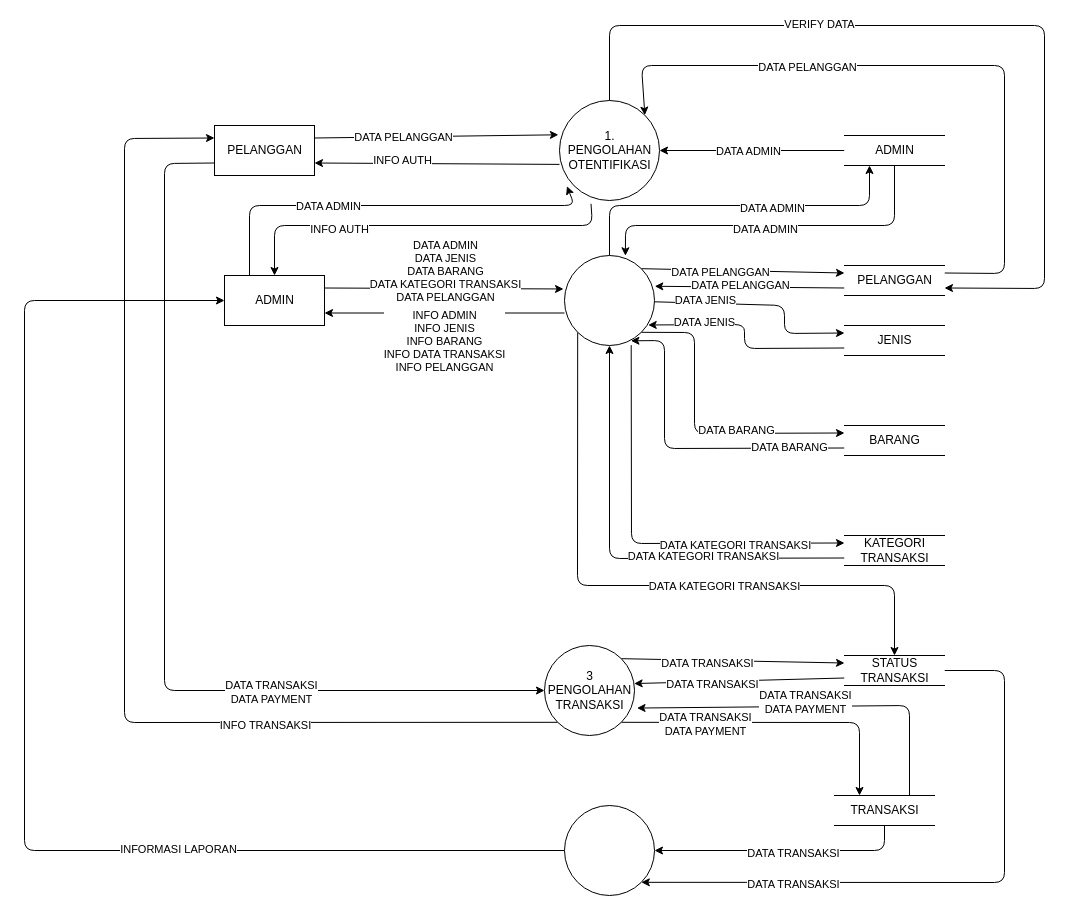
Image size: 1070x913. Some labels were removed from this diagram. Here are the shapes that lost their labels. From the top down, the centre of each, then its label:
point (609, 300): 2. PENGOLAHAN DATA MASTER
point (609, 850): 4 PENGOLAHAN INFORMASI LAPORAN
